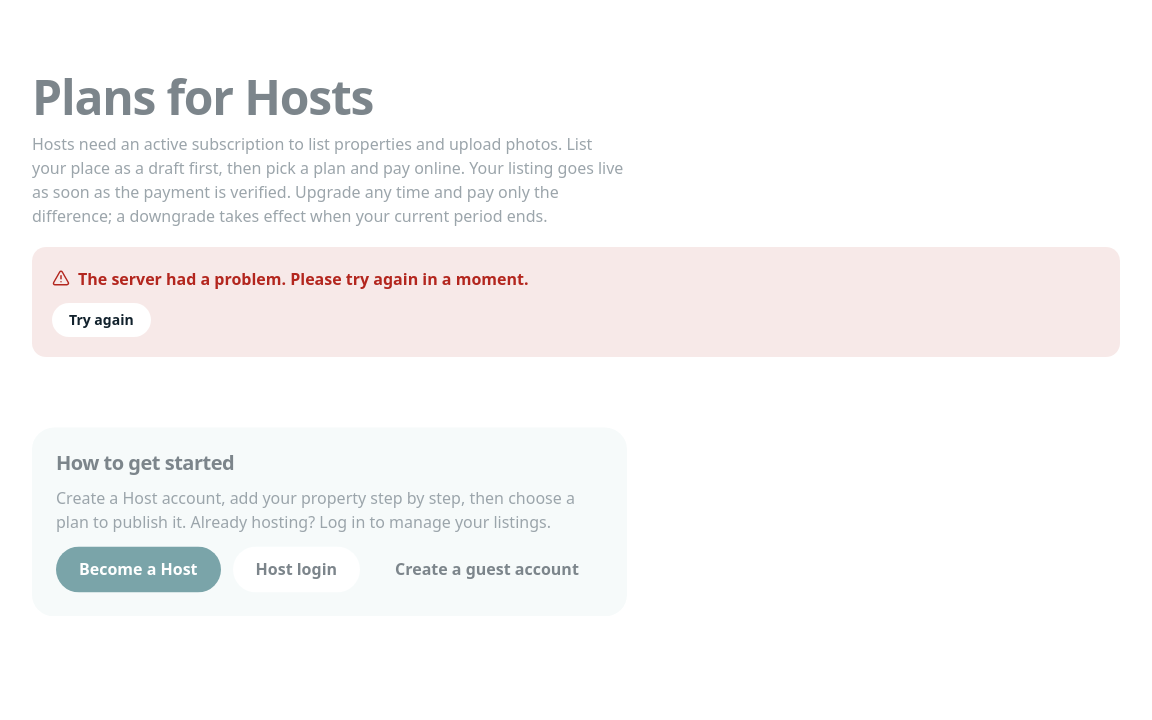
Plans › shows an error and retries
Click the button "Try again". click: (101, 320)
box: [52,303,151,337]
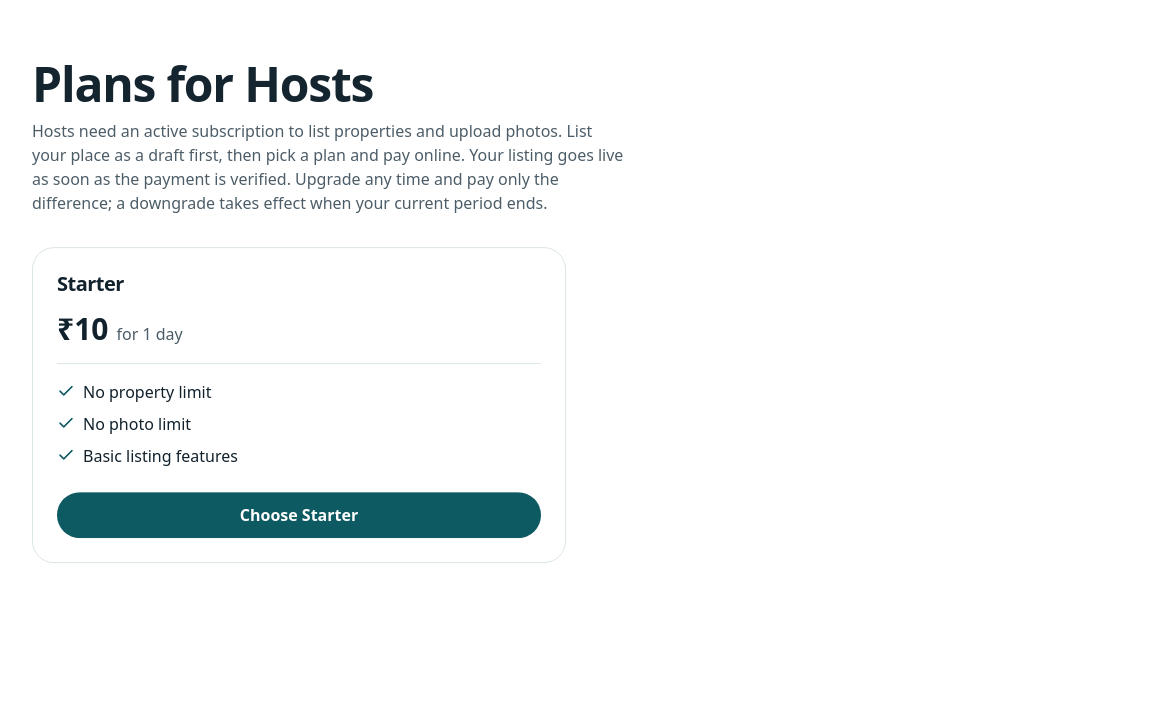
Expected: the heading "Starter" is shown, [57,272,124,295]
